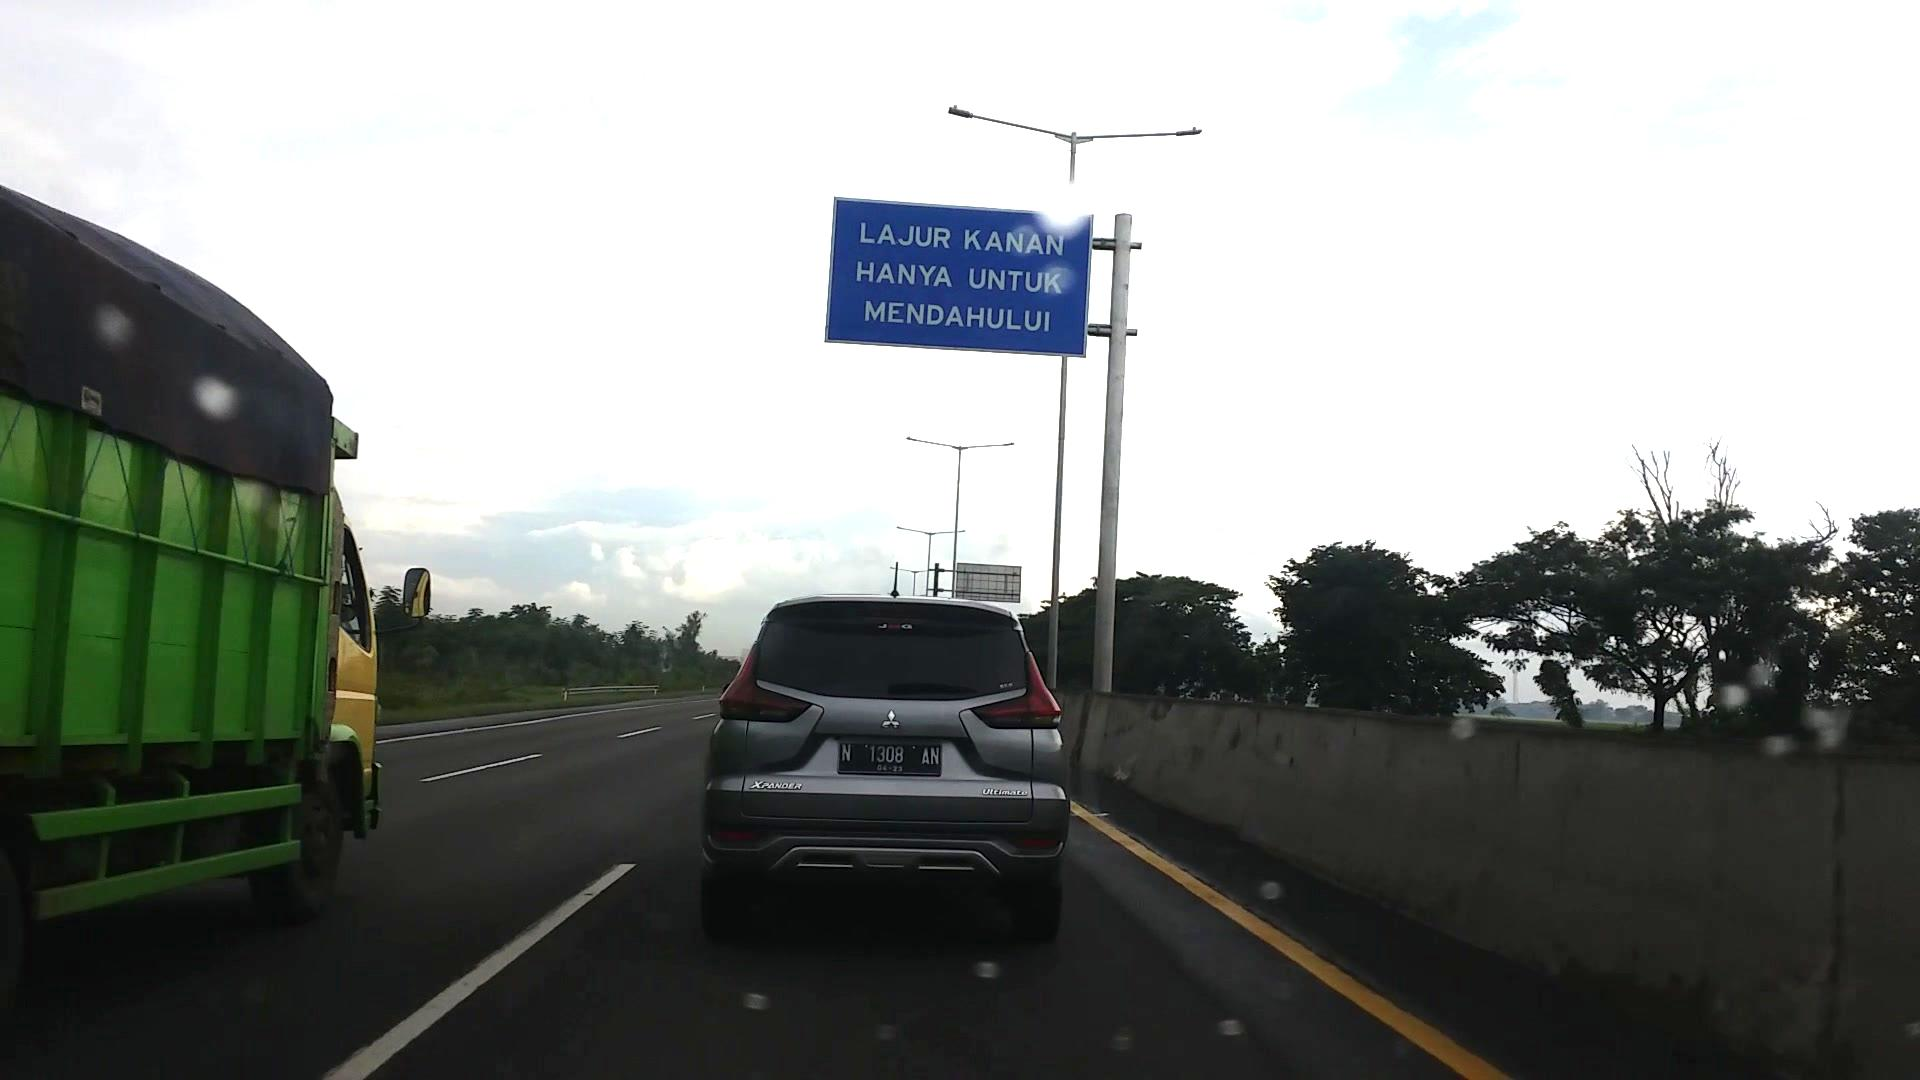plate_positive: (837, 742, 942, 778)
